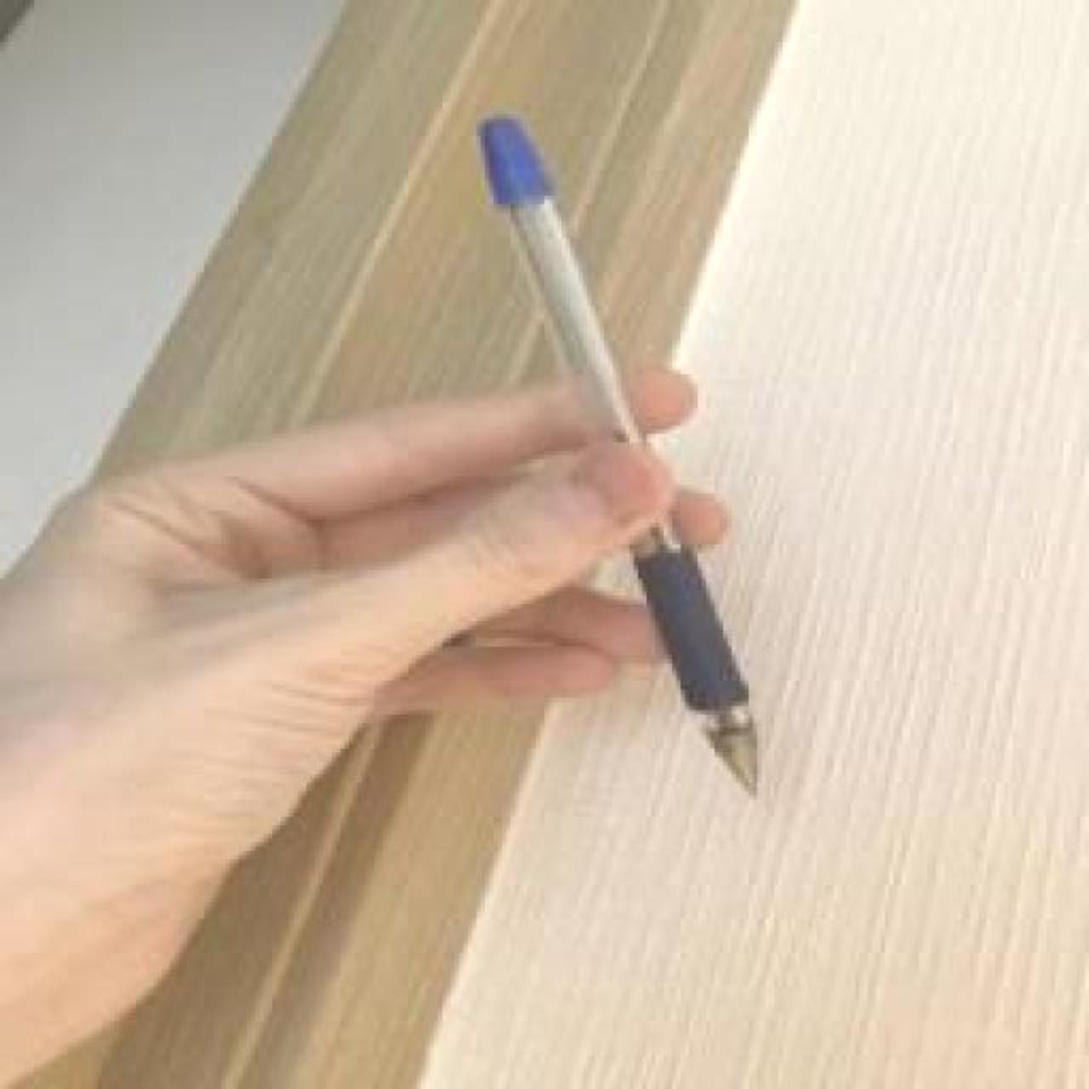pen: (473, 111, 771, 808)
